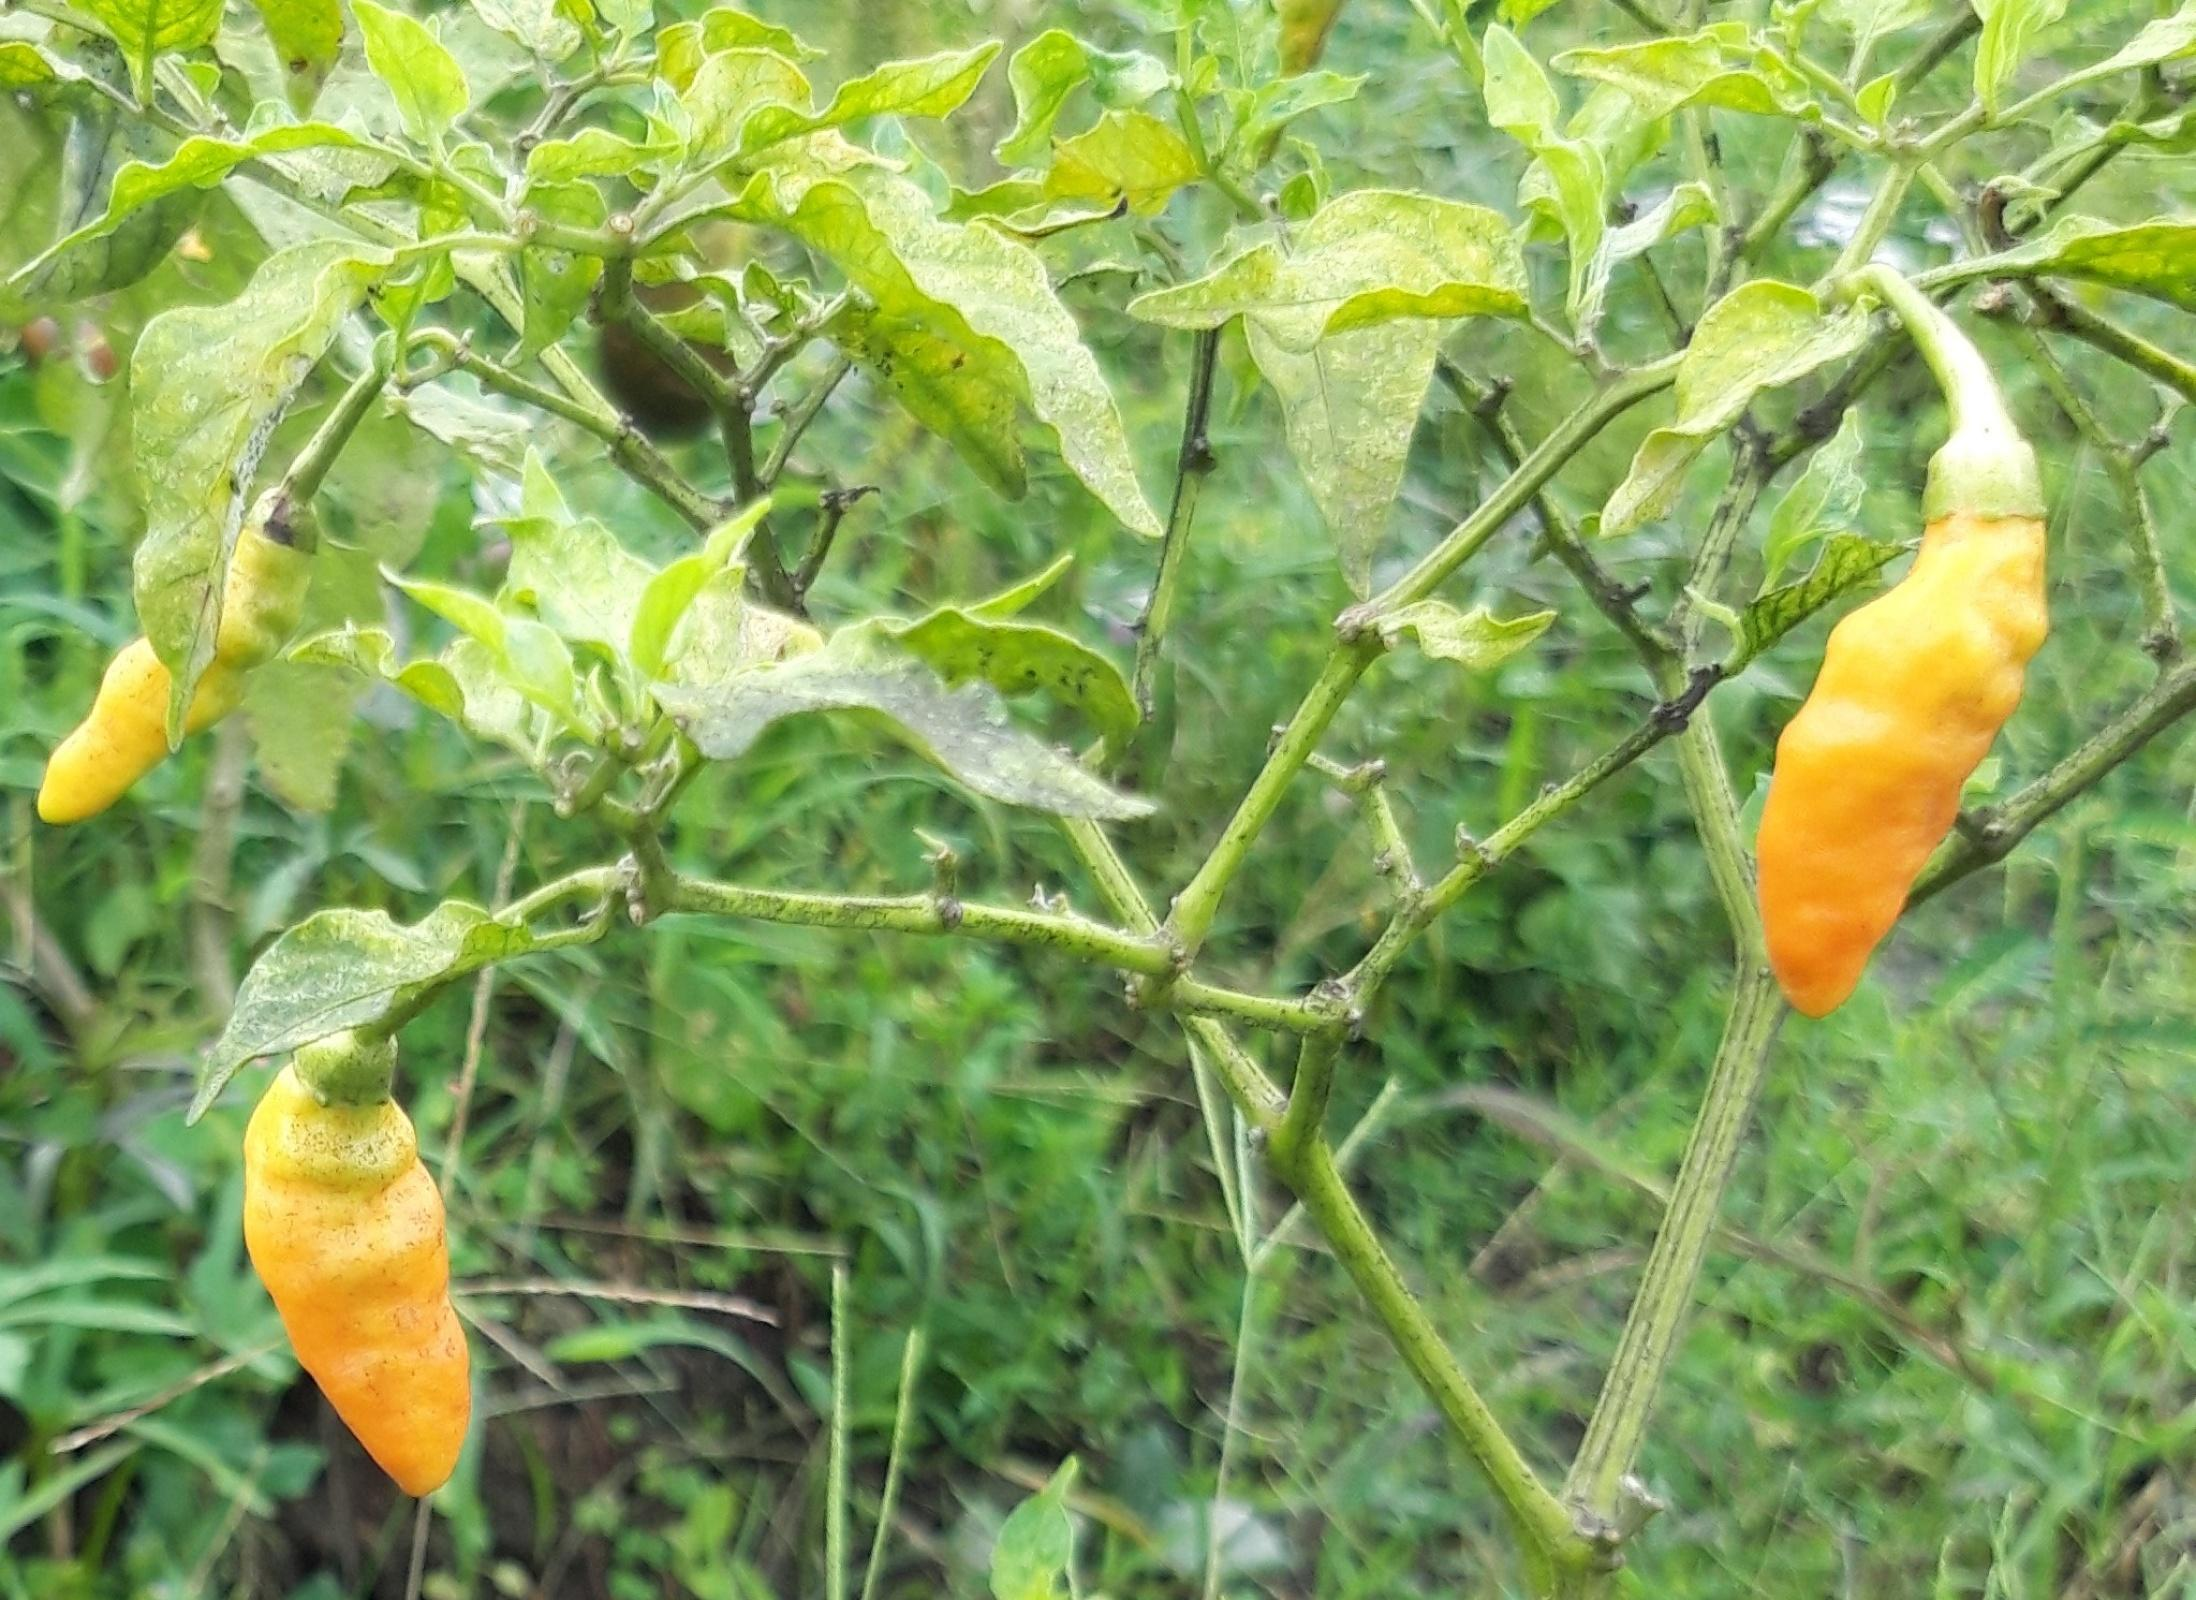cabai_normal: (1756, 517, 2053, 1020), (242, 1070, 474, 1496), (31, 532, 312, 822)
